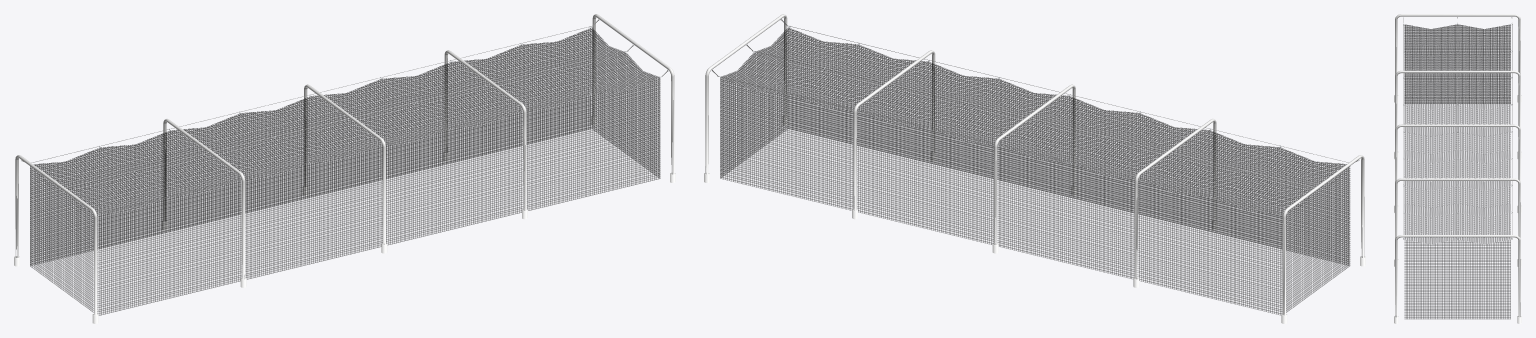
File: Outdoor Varsity 70.glb
3 renders of one model, left to right at view 1: azimuth 30°, elevation 25°; view 2: azimuth 150°, elevation 25°; view 3: azimuth 270°, elevation 25°, orthographic. The views are drawn at different scales.
Parts seen in each view (by area): view 1: Playground.003; view 2: Playground.003; view 3: Playground.003.
Boxes of the visible parts, x1,y1,x2,y2 form: Playground.003: [14, 14, 675, 323]; Playground.003: [704, 14, 1365, 323]; Playground.003: [1394, 14, 1521, 323].
Bounding box in the file's own units: 21.8 × 4.01 × 5.28.
Materials: 4 (1 with a texture image).
